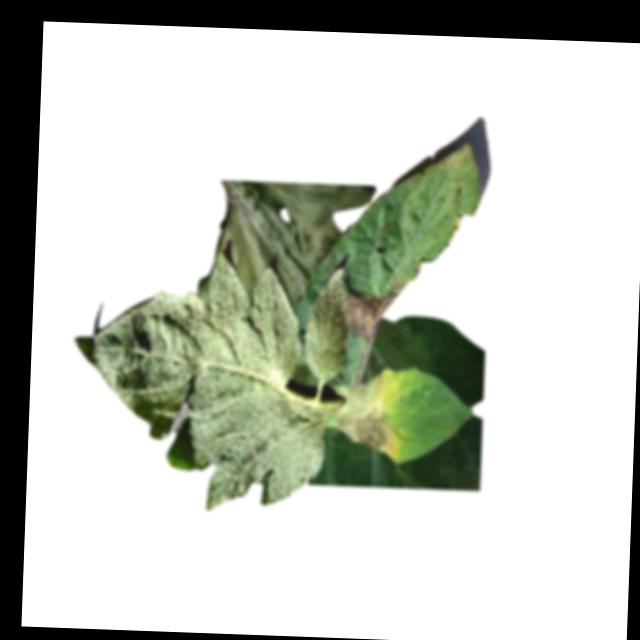Late_blight: (196, 179, 377, 307), (334, 371, 405, 461), (337, 288, 398, 343), (441, 144, 475, 171)
